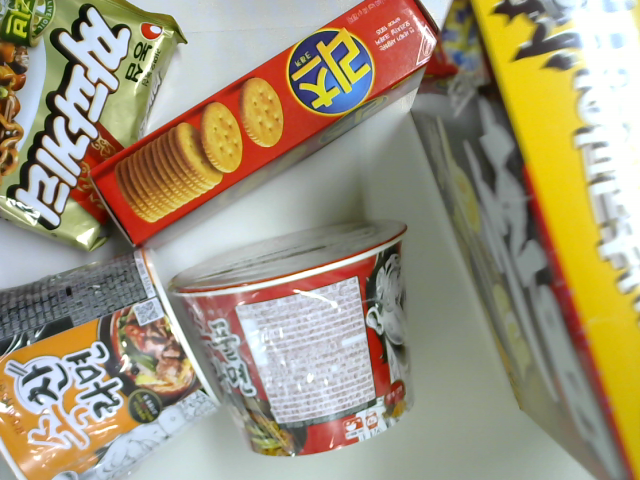Choco_Pie_Banana: (408, 1, 638, 480)
Hejangchan: (1, 244, 226, 480)
Hejangpul: (170, 210, 418, 475)
Olive_Chapaghetti: (1, 1, 199, 257)
Ritz_Cracker: (91, 1, 458, 255)
